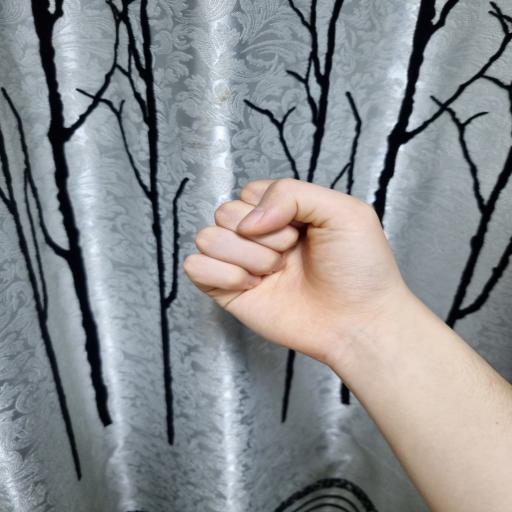Rock: (184, 178, 400, 360)
